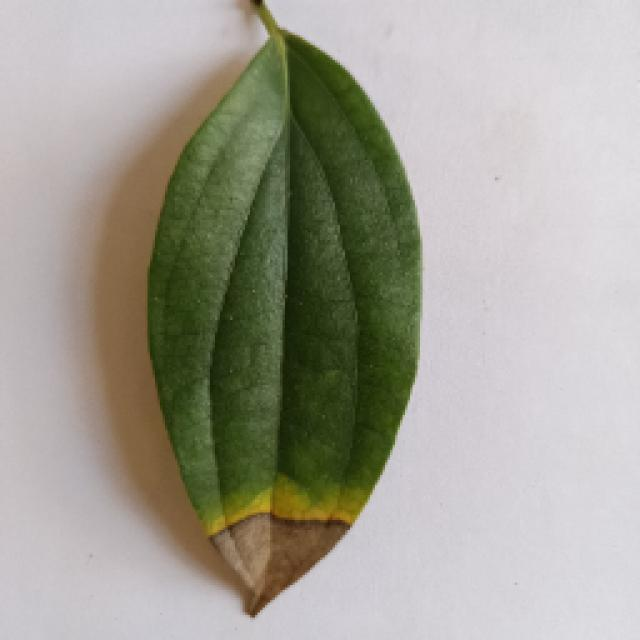footrot: (137, 10, 425, 618)
